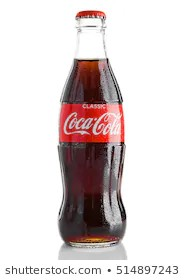coke-glass-bottle: (56, 2, 129, 247)
